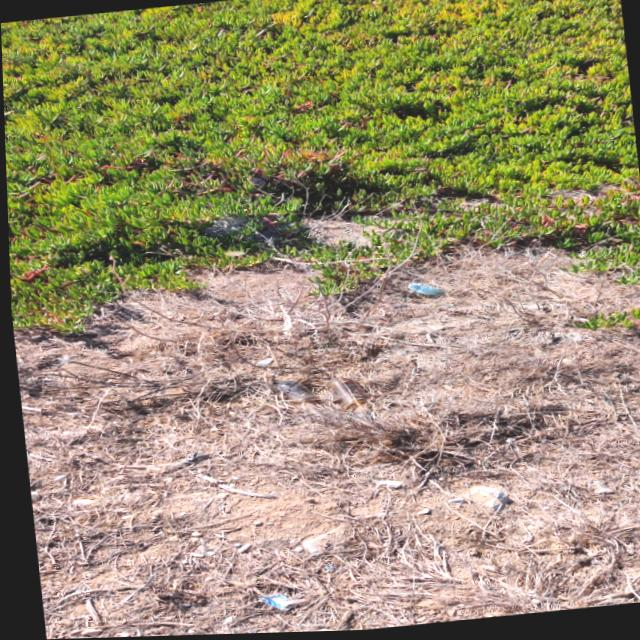Can-Metal: (317, 372, 373, 430), (267, 375, 320, 415), (399, 278, 450, 305)
